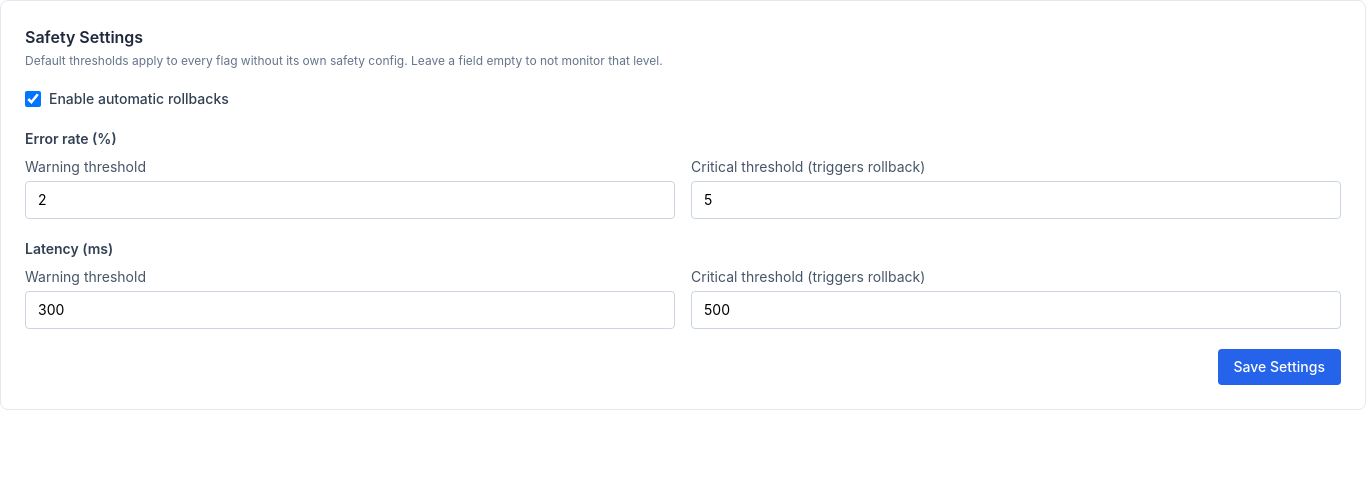
SafetySettingsForm › shows the API error when saving fails
Click the button with test id "save-settings-button": coordinates (1279, 367) [1218,349,1341,385]
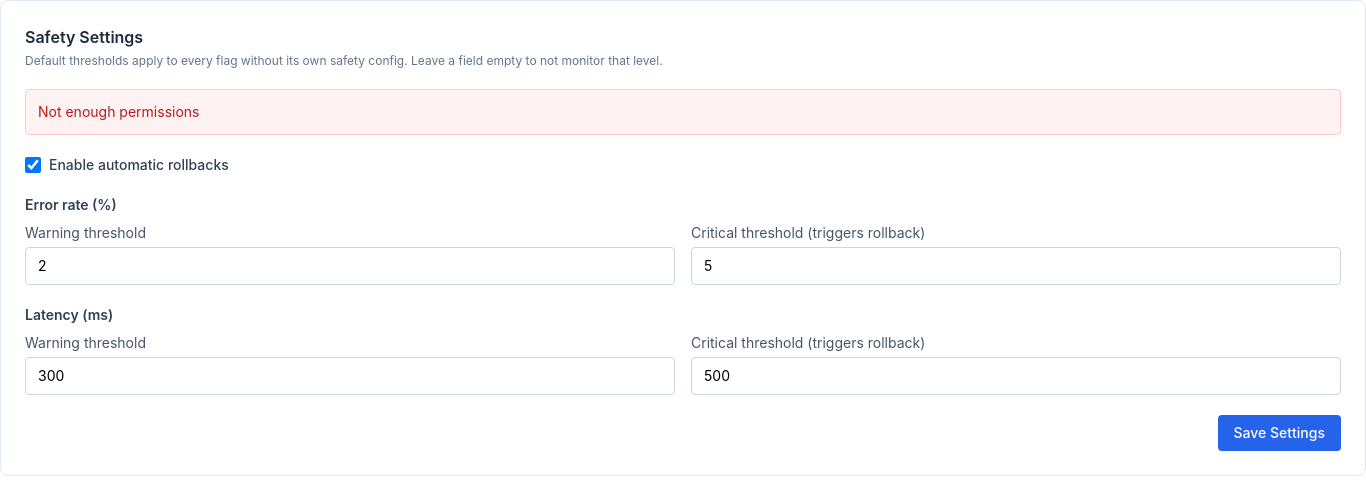
expect the text with test id "settings-error" reads "Not enough permissions": met, box [38,103,200,120]
